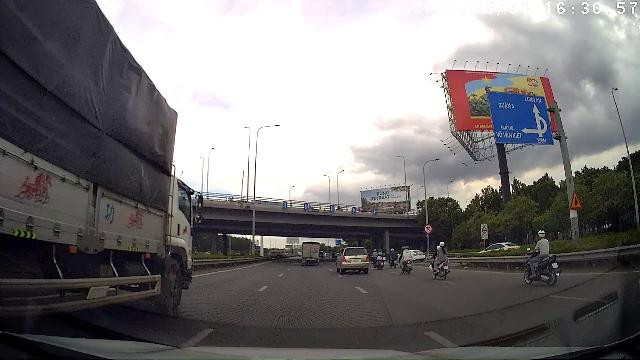123b-cam-re-phai: (423, 224, 433, 234)
